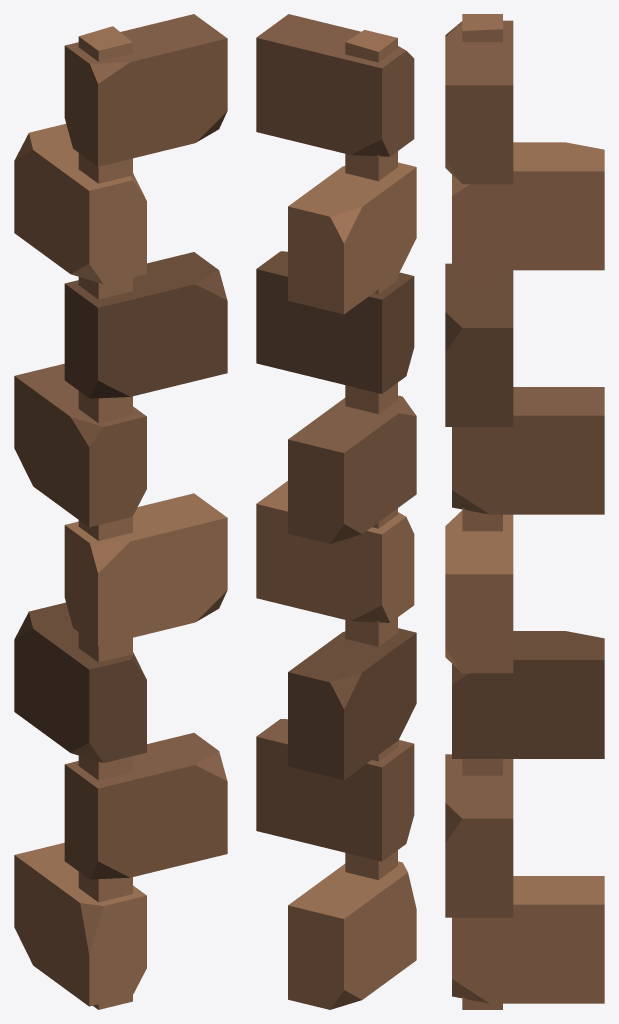
Rendered from SM_Bld_Wall_Brick_Corner_01.fbx.
3 views of the same model, side by side, from view 1: azimuth 30°, elevation 25°; view 2: azimuth 150°, elevation 25°; view 3: azimuth 270°, elevation 25° (orthographic). The views are drawn at different scales.
Parts seen in each view (by area): view 1: SM_Bld_Wall_Brick_Corner_01; view 2: SM_Bld_Wall_Brick_Corner_01; view 3: SM_Bld_Wall_Brick_Corner_01.
Part boxes in pixels (x1,y1,x2,y2): SM_Bld_Wall_Brick_Corner_01: (14, 14, 227, 1009); SM_Bld_Wall_Brick_Corner_01: (256, 14, 416, 1009); SM_Bld_Wall_Brick_Corner_01: (445, 14, 604, 1009).
Size of the model in its own units: 44.21 by 301 by 44.21.
1 material, 1 textured.
